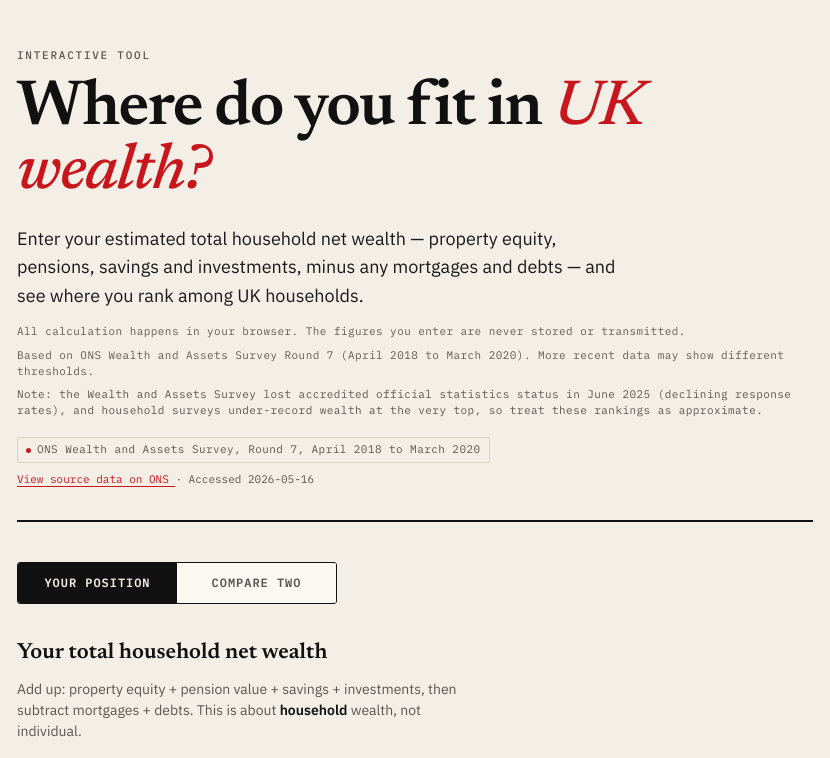
Test: WealthCalculator — compare mode inputs › compare button enables when both inputs have valid values
Click the tab with id "tab-compare" at (256, 583), box x1=177 y1=564 x2=336 y2=603
(page scrolled)
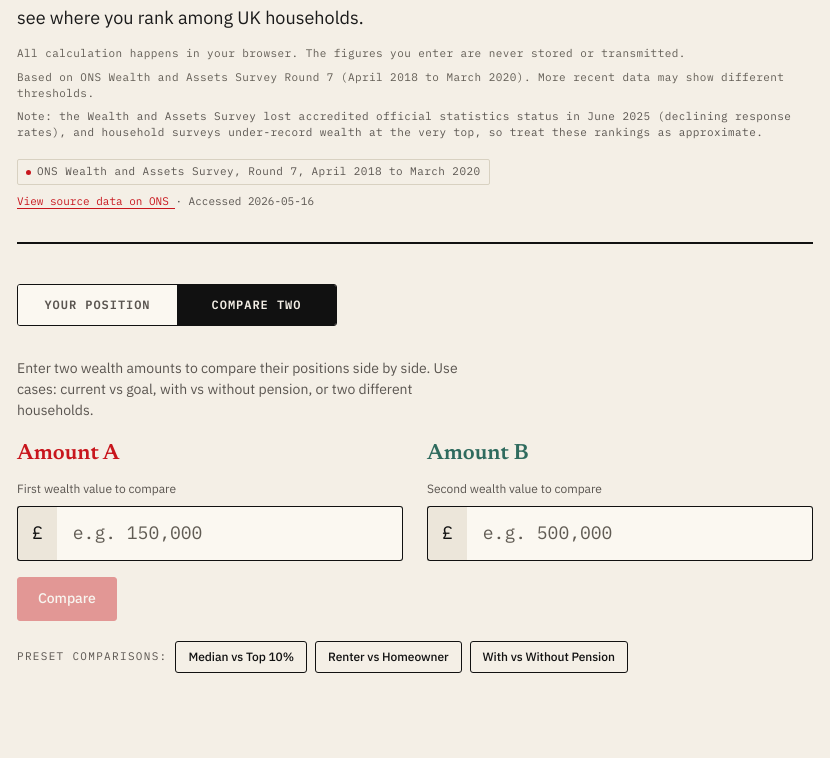
Type "100,000" into the field with id "compare-input-a" at (230, 533), box x1=57 y1=506 x2=403 y2=561
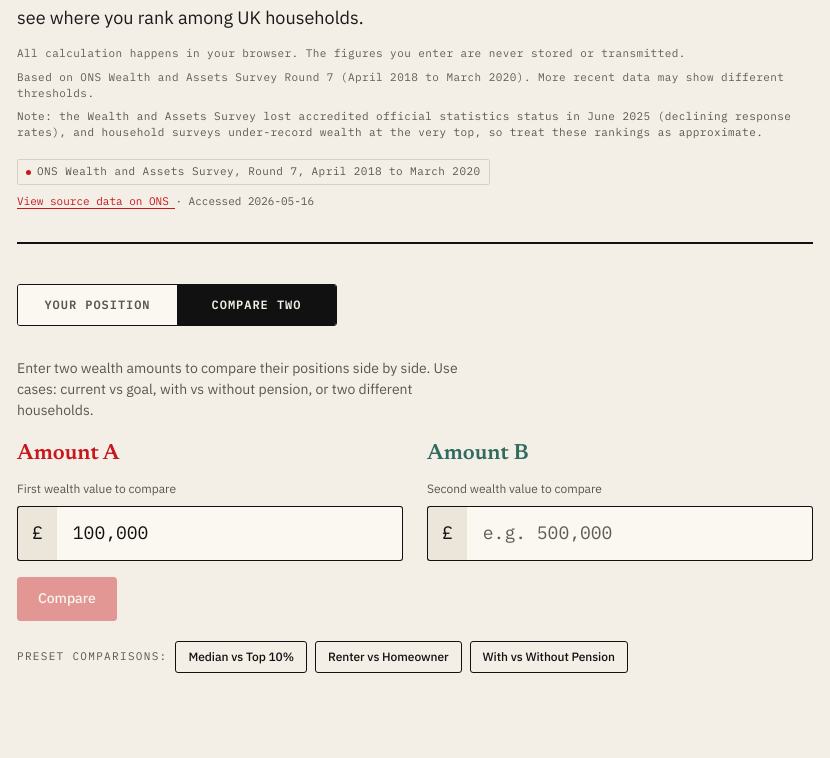
Type "500,000" into the field with id "compare-input-b" at (640, 533), box x1=467 y1=506 x2=813 y2=561
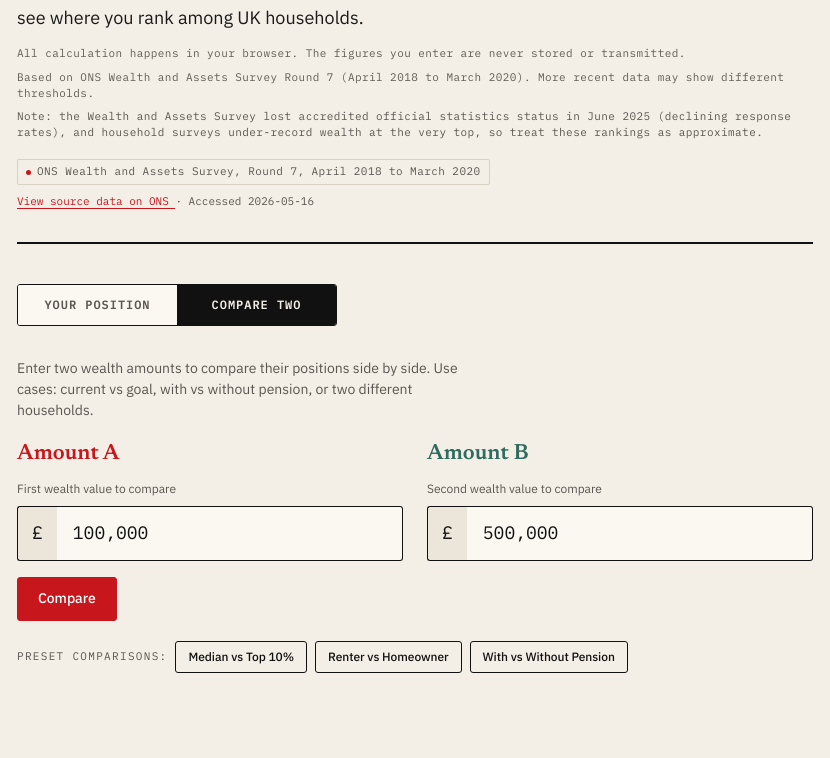
Expected: the button with class "calc__btn--compare" is enabled, x1=17 y1=577 x2=117 y2=621
